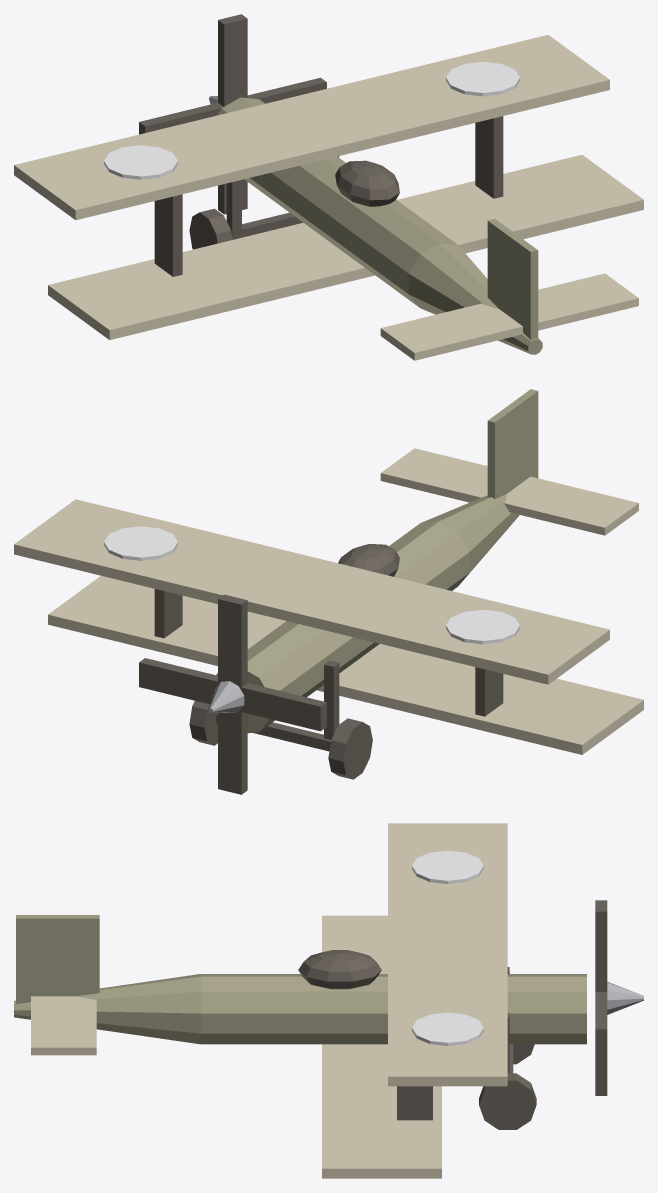
The model's file is player-spad.glb.
The picture shows the model from 3 angles, top to bottom: view 1: azimuth 30°, elevation 25°; view 2: azimuth 150°, elevation 25°; view 3: azimuth 270°, elevation 25°; orthographic projection. The views are drawn at different scales.
Visible parts, largest first — view 1: player-spad; view 2: player-spad; view 3: player-spad.
Part boxes in pixels (x1,y1,x2,y2): player-spad: (14, 14, 643, 360); player-spad: (14, 389, 643, 794); player-spad: (14, 823, 643, 1178).
Size of the model in its own units: 5 by 1.73 by 5.26.
